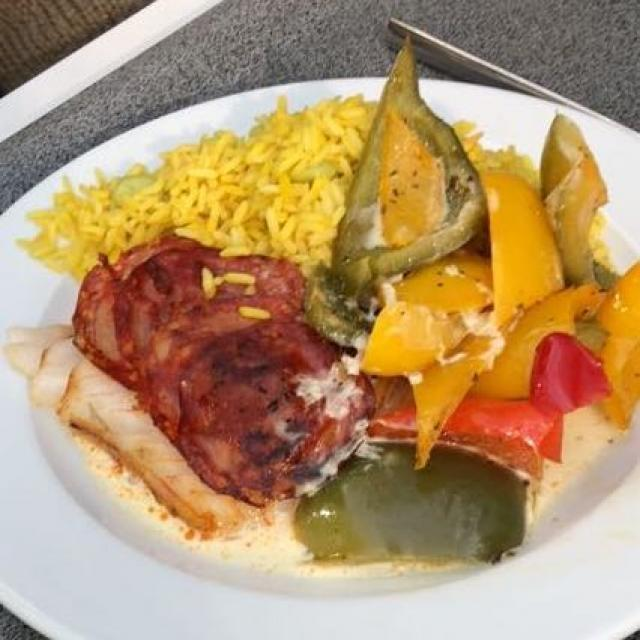bell-pepper: (302, 39, 633, 581)
rice: (41, 94, 361, 264)
salami: (18, 251, 370, 540)
